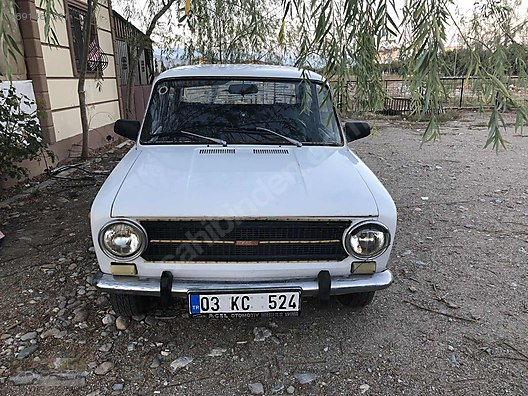murat: (80, 61, 399, 329)
